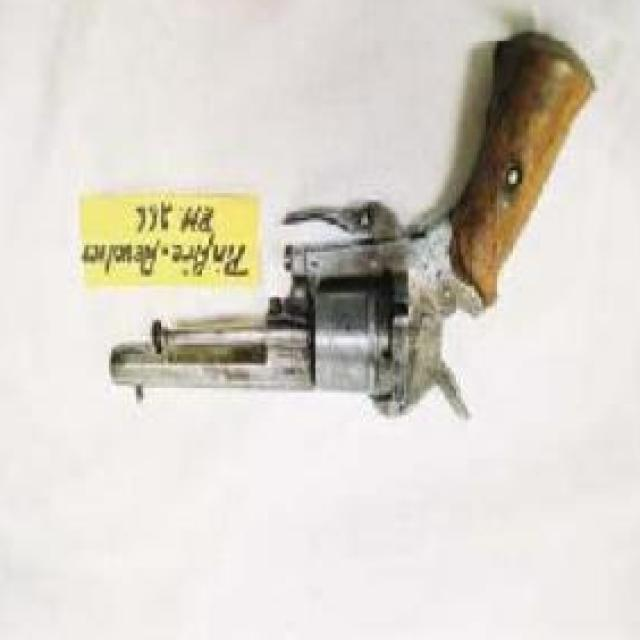pistol: (104, 26, 602, 436)
